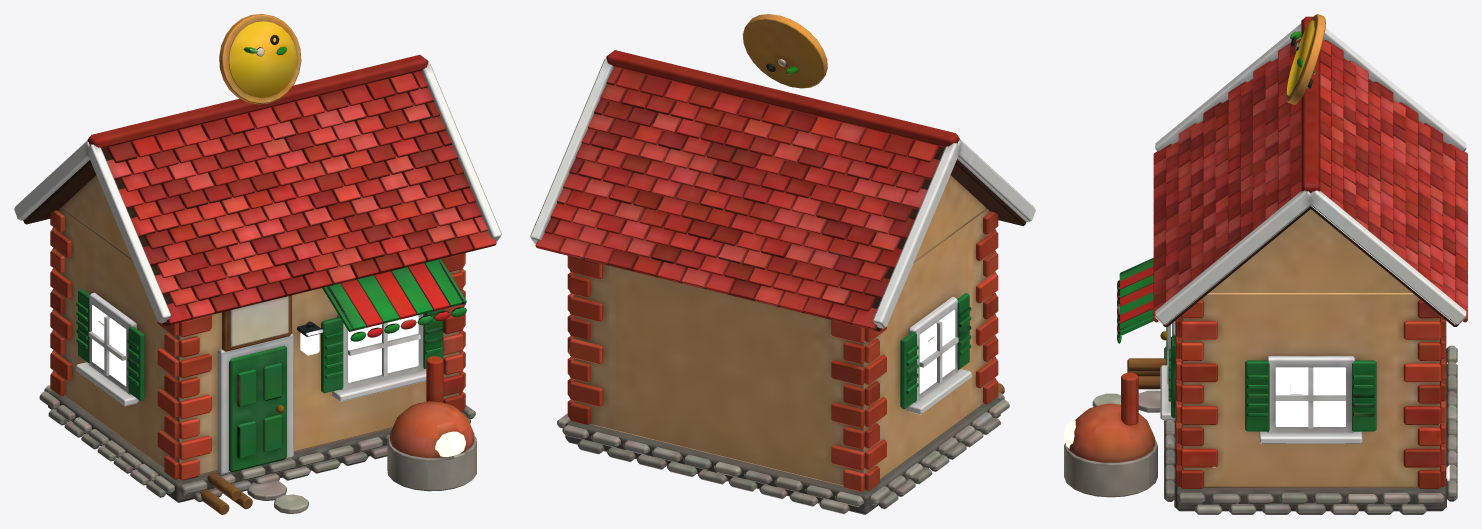
File: pizzeria.glb
The picture shows the model from 3 angles, left to right: view 1: azimuth 30°, elevation 25°; view 2: azimuth 150°, elevation 25°; view 3: azimuth 270°, elevation 25°; orthographic projection. The views are drawn at different scales.
Visible parts, largest first — view 1: pizzeria; view 2: pizzeria; view 3: pizzeria.
Boxes of the visible parts, bbox=[...] form: pizzeria: bbox=[14, 14, 501, 514]; pizzeria: bbox=[530, 14, 1035, 514]; pizzeria: bbox=[1064, 14, 1467, 514].
Size of the model in its own units: 1.74 by 1.98 by 1.72.
Materials: 1 (1 with a texture image).
